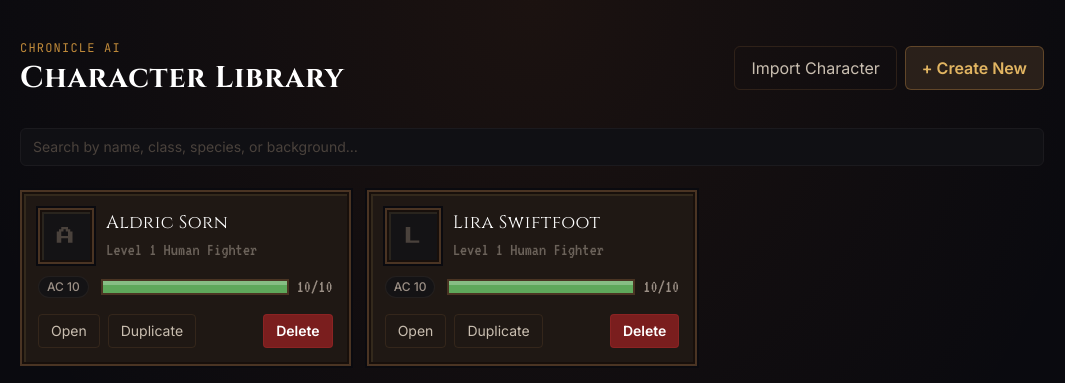
Scenario: CharacterLibraryPage — search › filters the visible characters by name as the user types
The image size is (1065, 383).
Expected: the heading "Aldric Sorn" is shown, [106,210,228,235]
Type "Lira" into the field named "Search characters" at (532,147), box [20,128,1044,166]
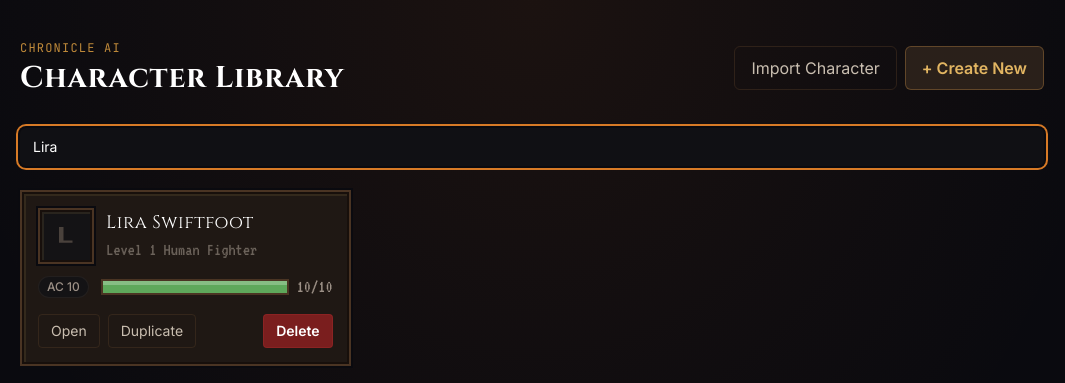
Expected: the heading "Lira Swiftfoot" is shown, [106,209,257,237]
Expected: the button "Aldric Sorn" is gone
